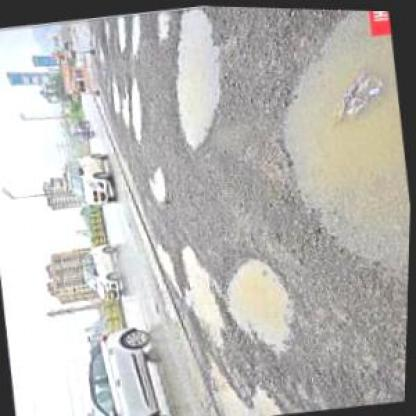pothole: (219, 248, 300, 355), (172, 240, 232, 344), (124, 76, 148, 140), (143, 162, 170, 202), (107, 75, 122, 114)
